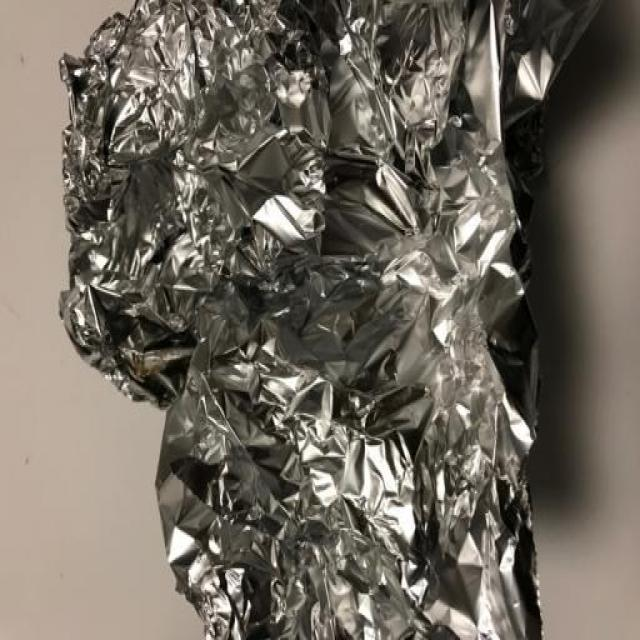plastic_bag: (137, 77, 632, 640), (51, 7, 546, 487)
